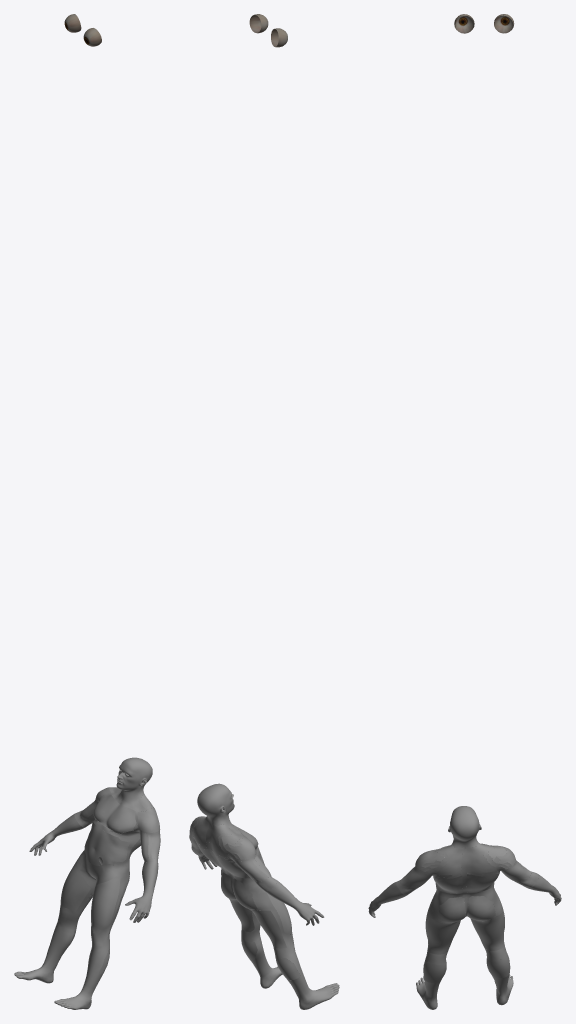
The model's file is fitness.glb.
The picture shows the model from 3 angles, left to right: view 1: azimuth 30°, elevation 25°; view 2: azimuth 210°, elevation 25°; view 3: azimuth 270°, elevation 25°; orthographic projection. The views are drawn at different scales.
Visible parts, largest first — view 1: remaining body, quads, core, chest, forearms, shoulders, high_polyMesh1, biceps; view 2: remaining body, back, hamstrings, glutes, shoulders, high_polyMesh1, calves, forearms, triceps, quads; view 3: remaining body, back, hamstrings, glutes, calves, shoulders, triceps, high_polyMesh1, forearms.
Boxes of the visible parts, x1,y1,x2,y2 form: remaining body: [14, 757, 160, 1009]; quads: [60, 861, 120, 933]; core: [84, 821, 129, 865]; chest: [93, 794, 136, 833]; forearms: [52, 814, 158, 895]; shoulders: [95, 787, 159, 832]; high_polyMesh1: [64, 14, 101, 46]; biceps: [80, 801, 148, 859]; remaining body: [189, 783, 339, 1009]; back: [193, 817, 250, 878]; hamstrings: [229, 898, 286, 948]; glutes: [221, 872, 257, 909]; shoulders: [190, 816, 256, 860]; high_polyMesh1: [249, 14, 287, 47]; calves: [241, 938, 300, 979]; forearms: [191, 844, 300, 909]; triceps: [189, 832, 268, 880]; quads: [267, 893, 292, 935]; remaining body: [368, 806, 561, 1009]; back: [433, 842, 499, 893]; hamstrings: [427, 913, 504, 954]; glutes: [437, 896, 495, 922]; calves: [423, 956, 510, 982]; shoulders: [415, 845, 516, 871]; triceps: [399, 862, 531, 886]; high_polyMesh1: [454, 14, 514, 33]; forearms: [376, 873, 554, 904].
Size of the model in its own units: 220 by 1719 by 299.
Materials: 2 (1 with a texture image).
